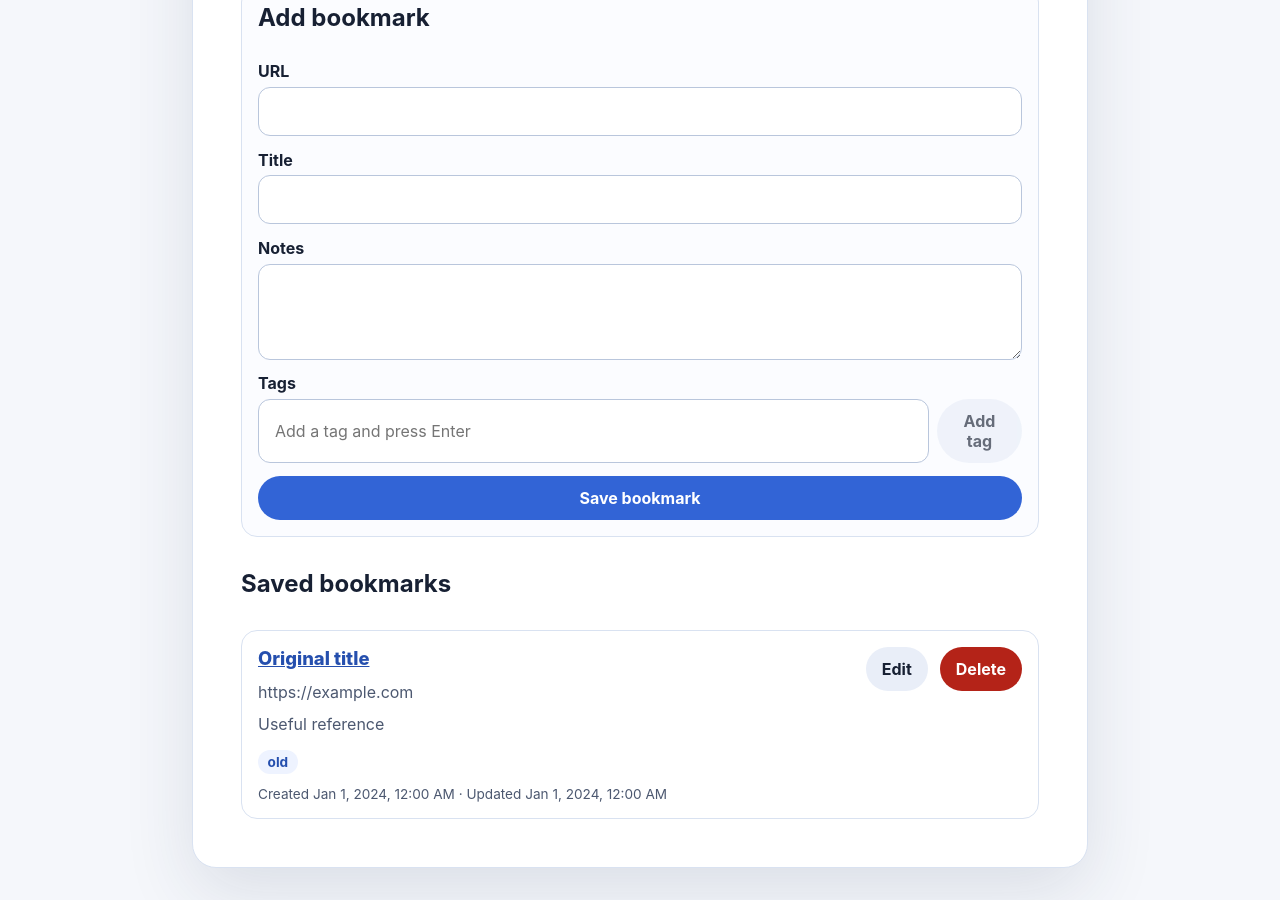
Test: bookmark CRUD UI › edits an existing bookmark and updates the visible card
(page scrolled)
Expected: the link "Original title" is shown, x1=258 y1=647 x2=370 y2=669
Click the button "Edit" at (897, 669), box x1=866 y1=647 x2=928 y2=691
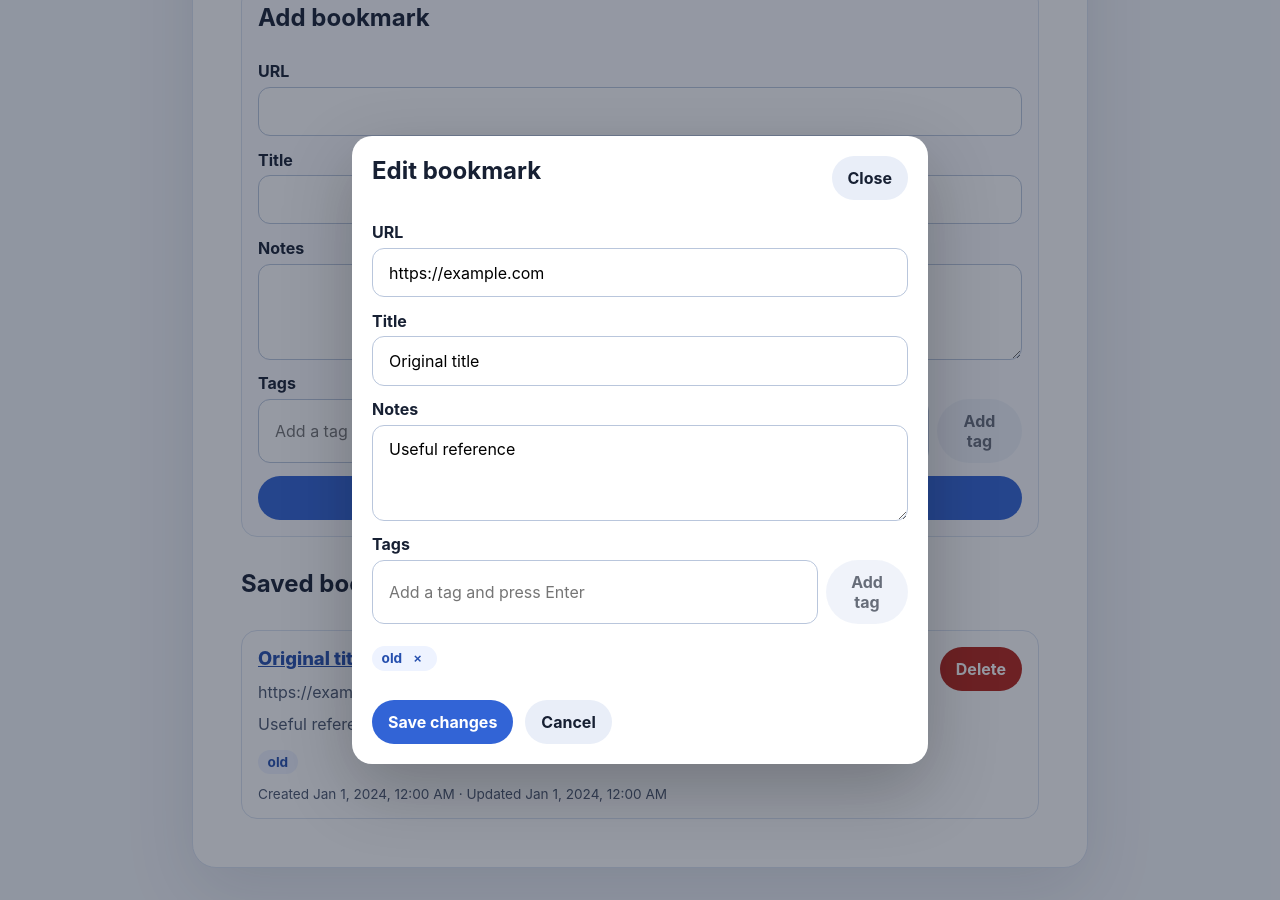
Replace the text in the field labelled "Title" with "Updated title" at (640, 361), box x1=372 y1=336 x2=908 y2=386
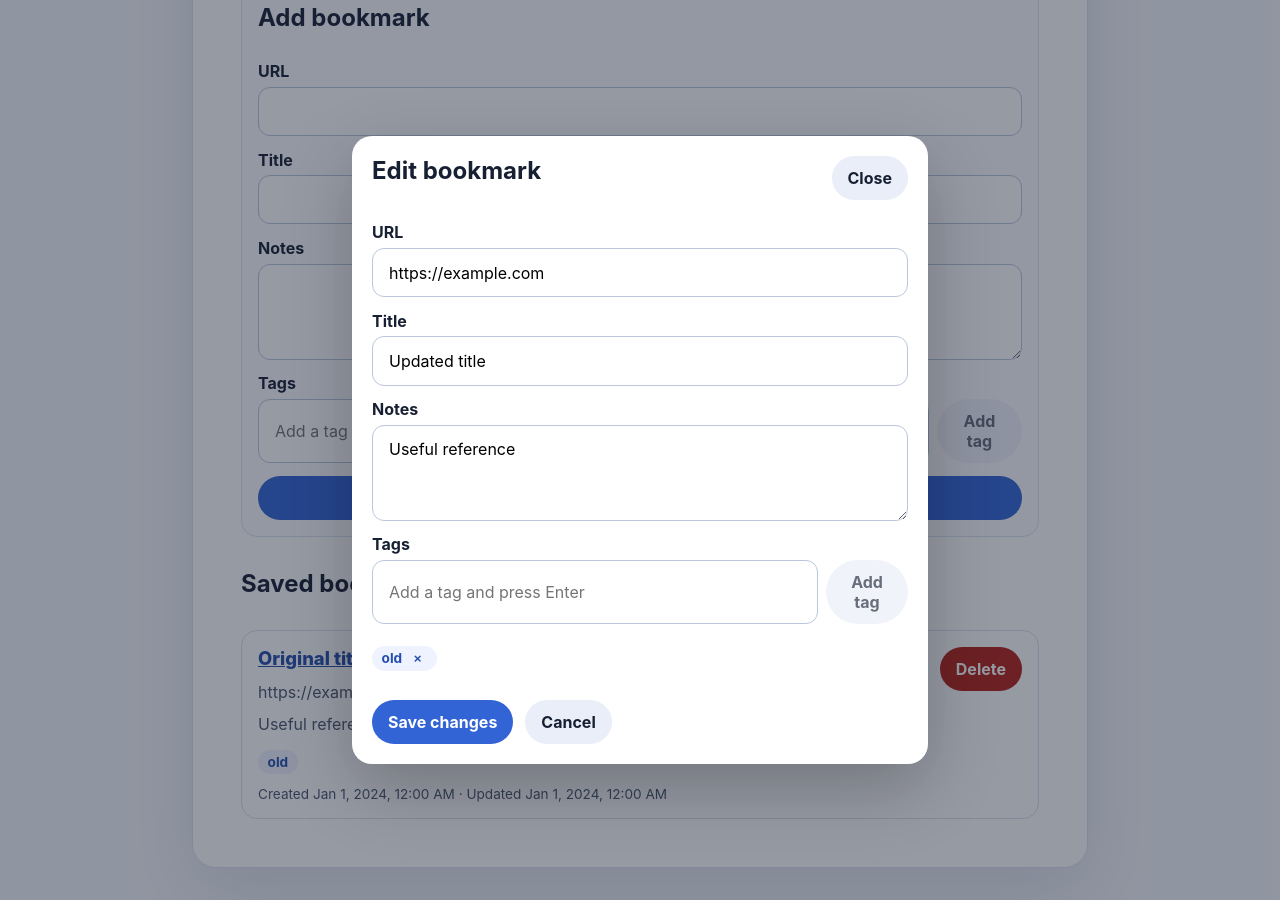
Click the button named "remove old" at (418, 658), box x1=408 y1=650 x2=428 y2=667
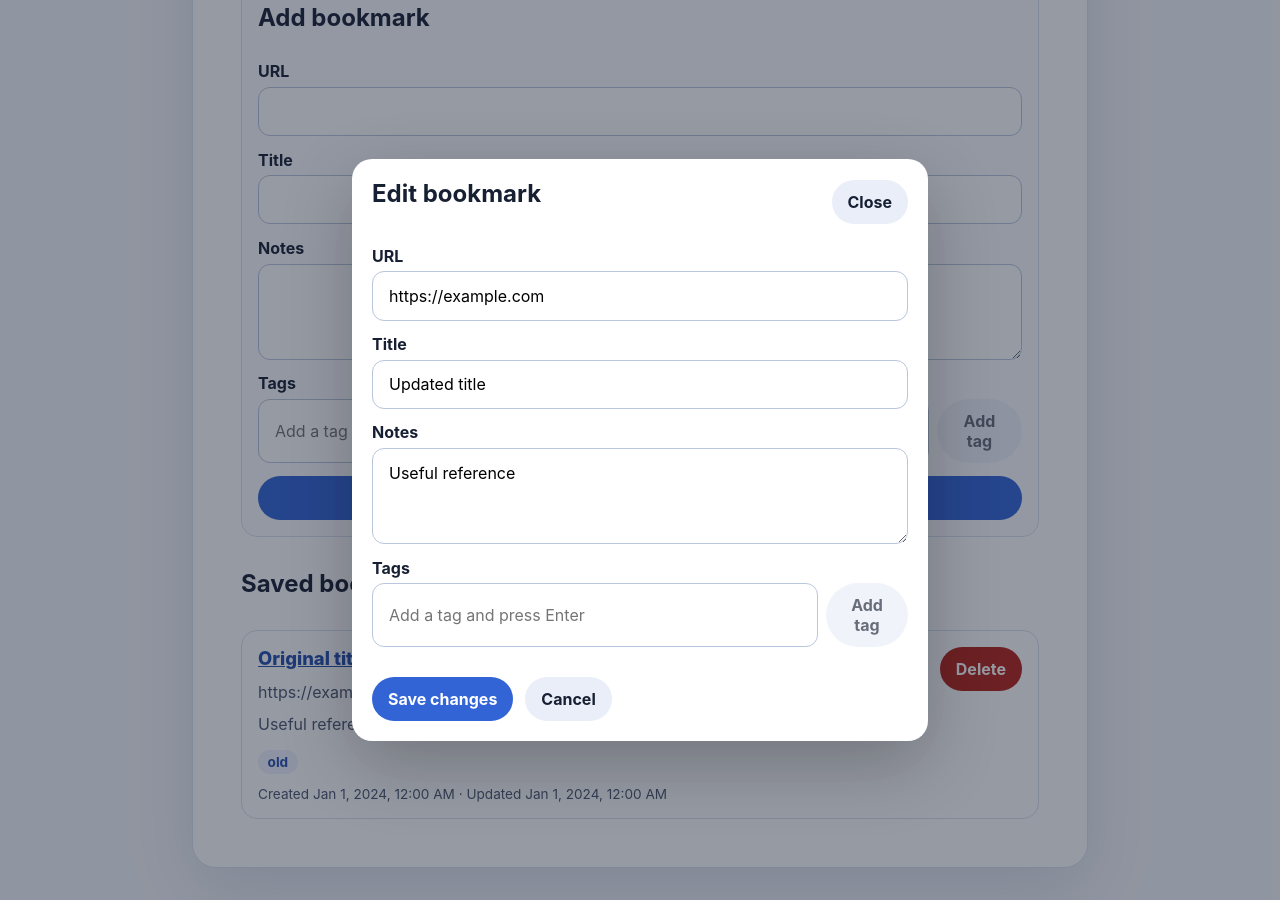
Type "new" into the field labelled "Tags" at (595, 615), box x1=372 y1=583 x2=818 y2=647
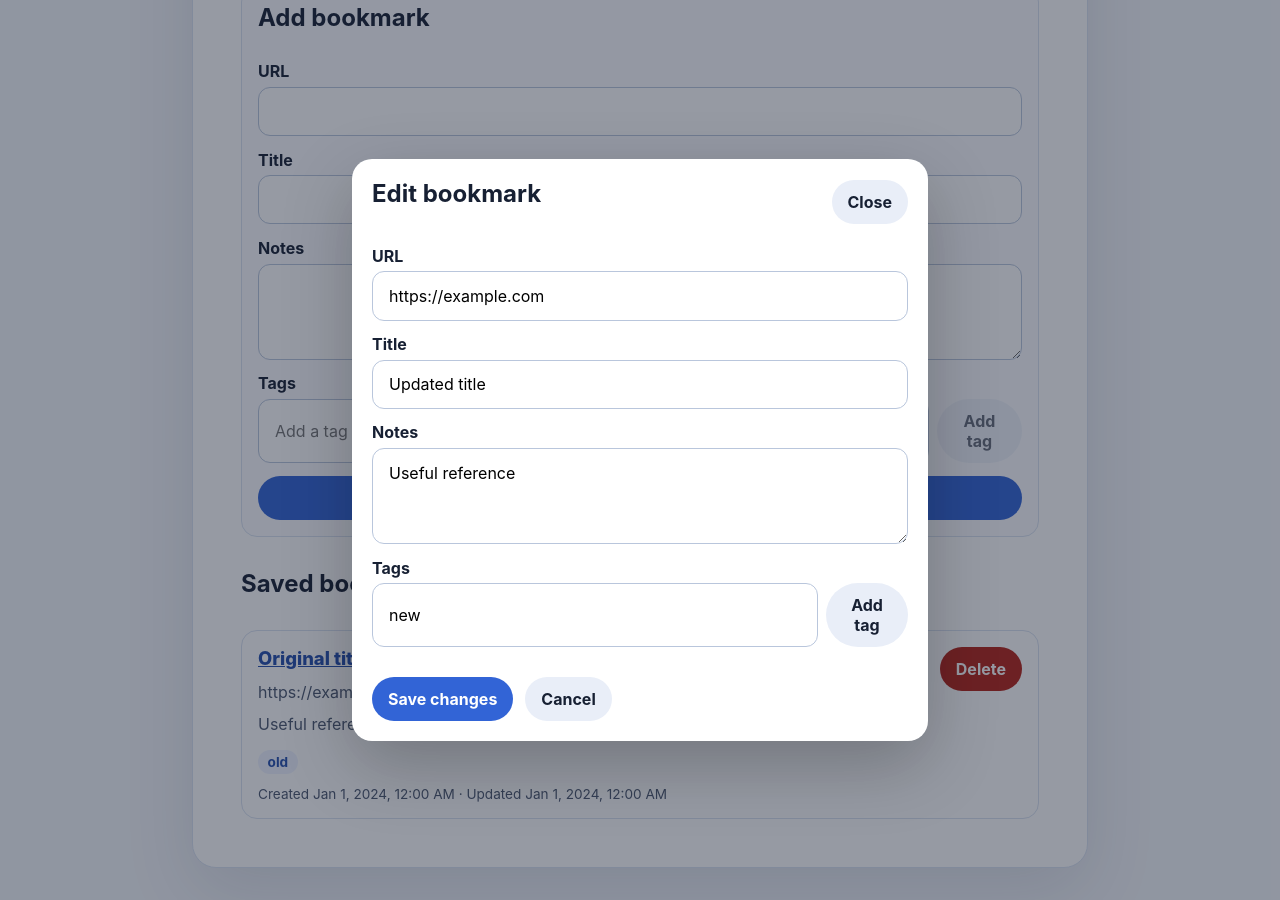
Click the button "Add tag" at (867, 615), box x1=826 y1=583 x2=908 y2=647
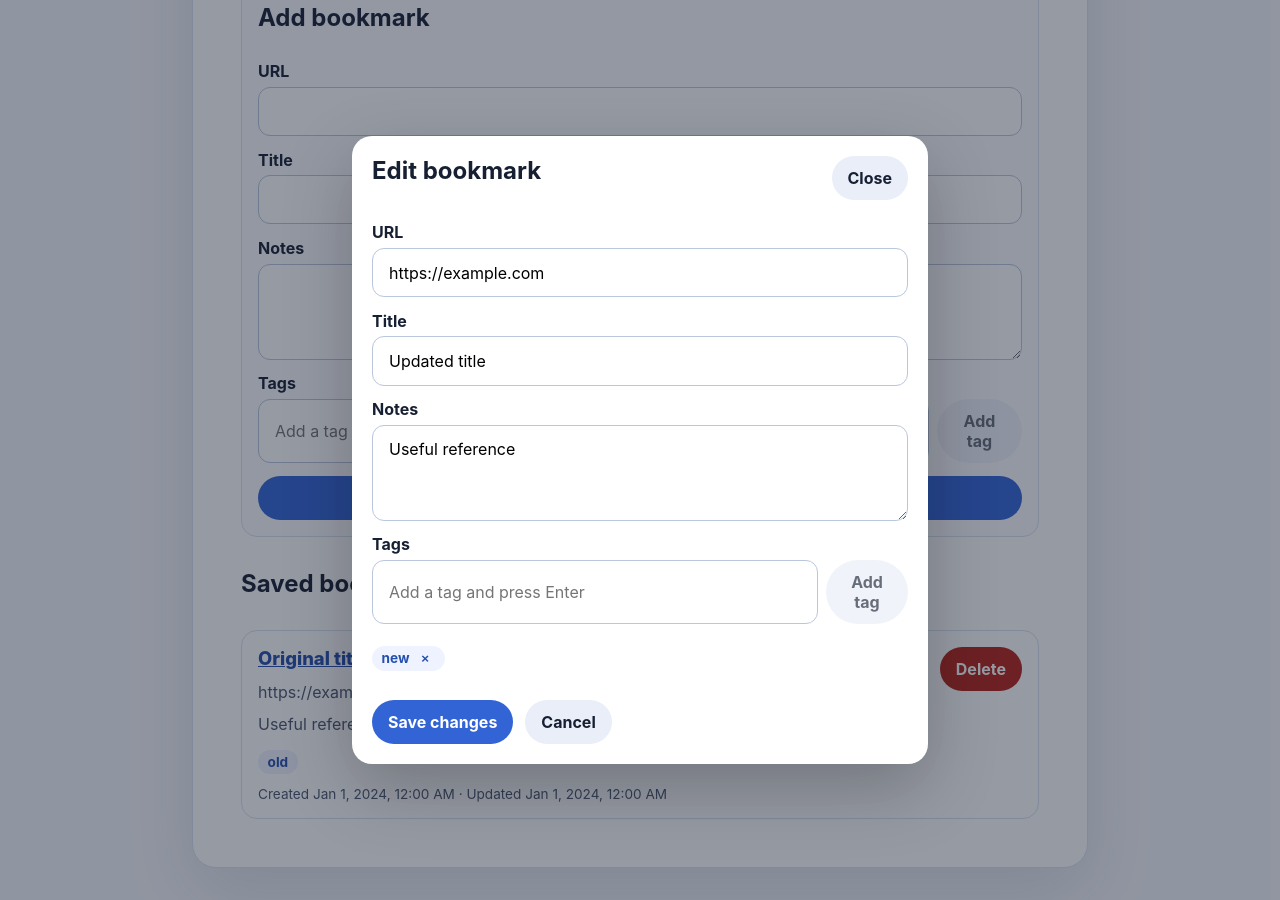
Click the button "Save changes" at (443, 722), box x1=372 y1=700 x2=513 y2=744
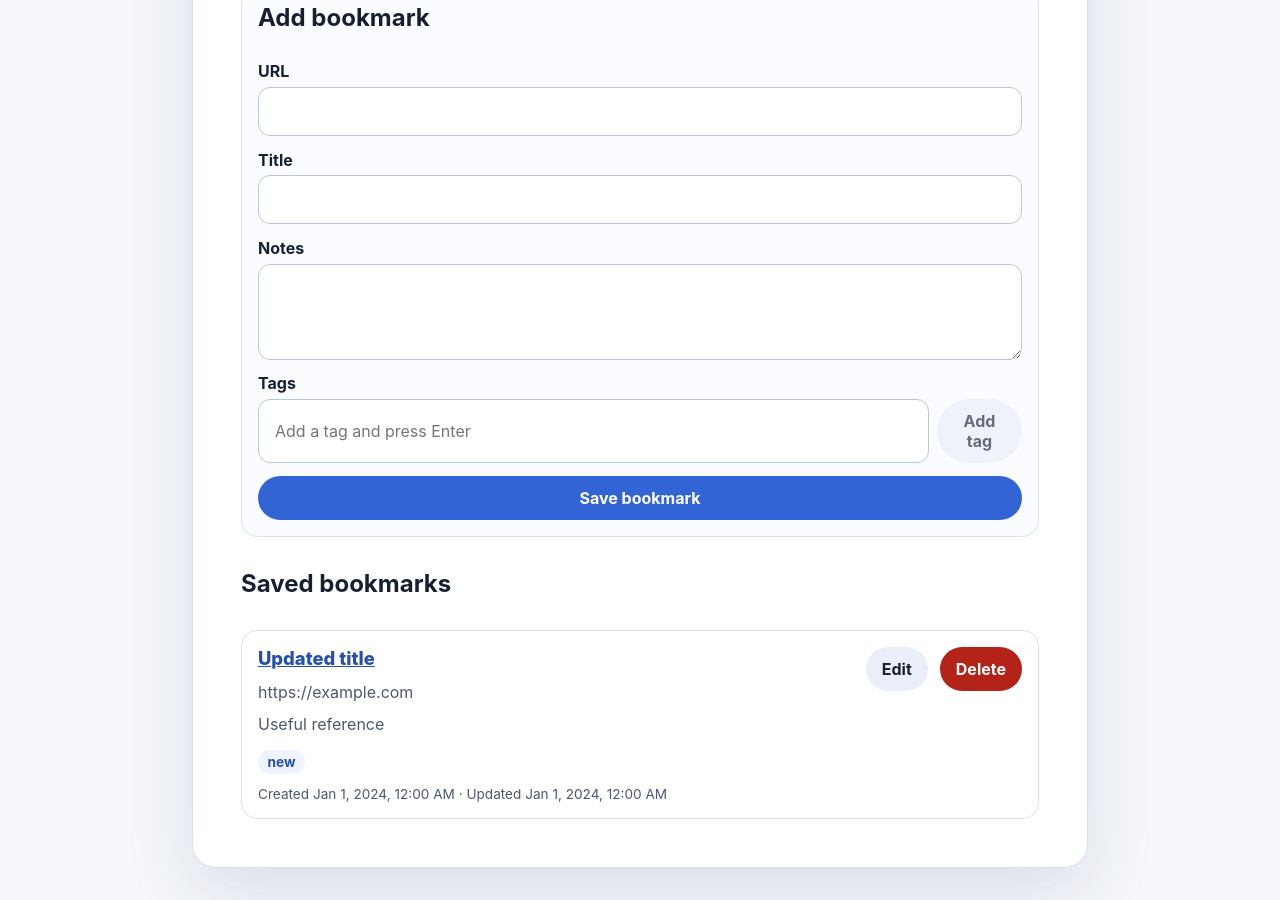
Now the list item "new" is shown, box x1=258 y1=750 x2=305 y2=774
Now the link "Updated title" is shown, box x1=258 y1=647 x2=375 y2=669
Now the link "Original title" is gone
